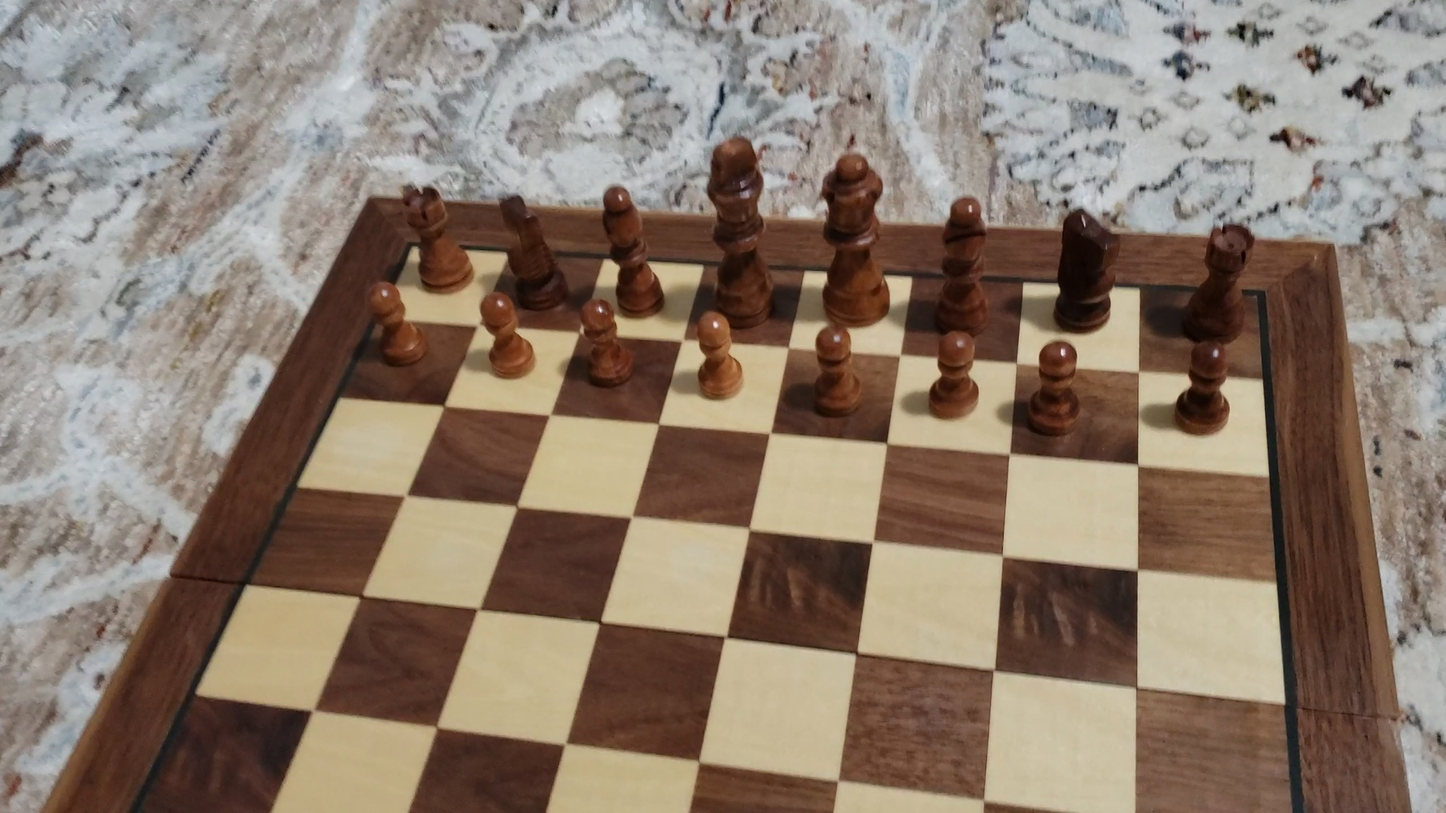black-bishop: (934, 193, 992, 336), (602, 183, 663, 317)
black-king: (702, 132, 777, 328)
black-knight: (1052, 204, 1122, 334), (497, 191, 565, 310)
black-pawn: (1171, 339, 1233, 437), (363, 278, 427, 370), (1026, 339, 1083, 439), (577, 298, 634, 391), (926, 328, 981, 423), (478, 289, 535, 380), (810, 322, 863, 419), (692, 308, 744, 402)
black-queen: (816, 149, 891, 326)
black-rook: (1179, 220, 1256, 344), (399, 181, 473, 294)
